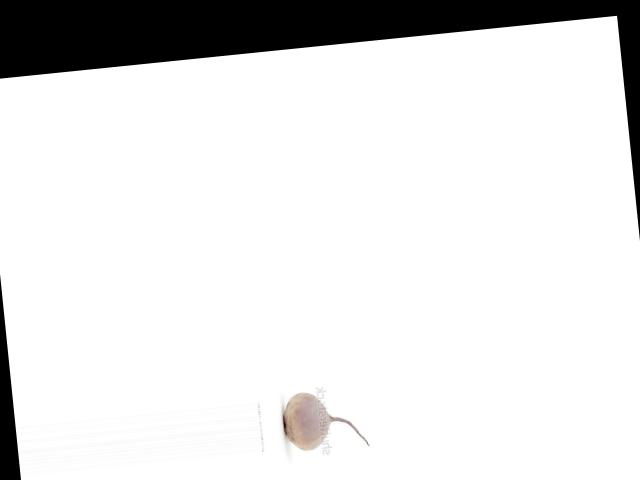beet: (280, 385, 369, 454)
